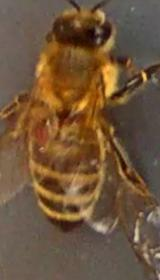varroa_mite: (21, 112, 60, 150)
